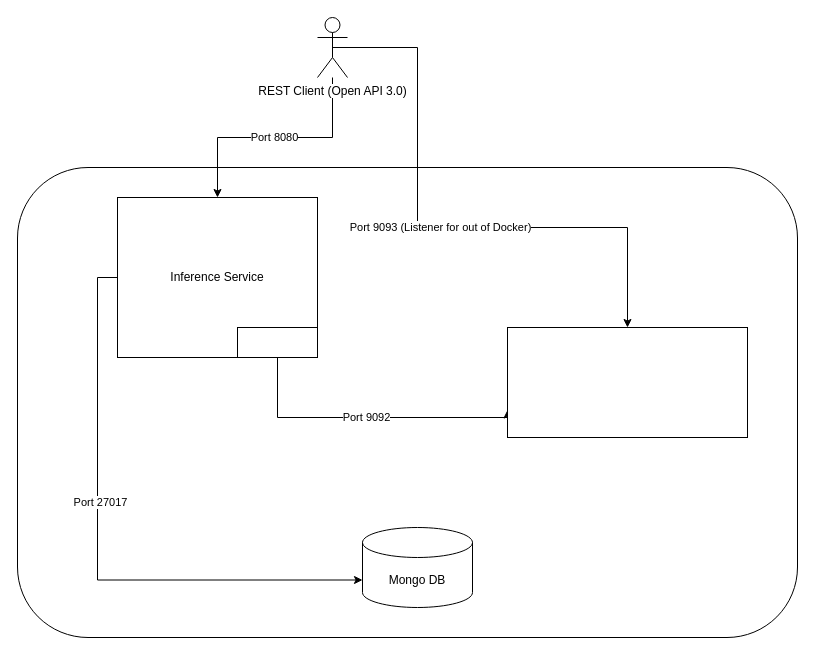
Some shapes in this 815 by 655 pixel diagram are drawn without their labels. Each missing label, with the centre of its shape:
Cloud Event: (x=277, y=342)
Kafka / Zookeeper: (x=627, y=382)
